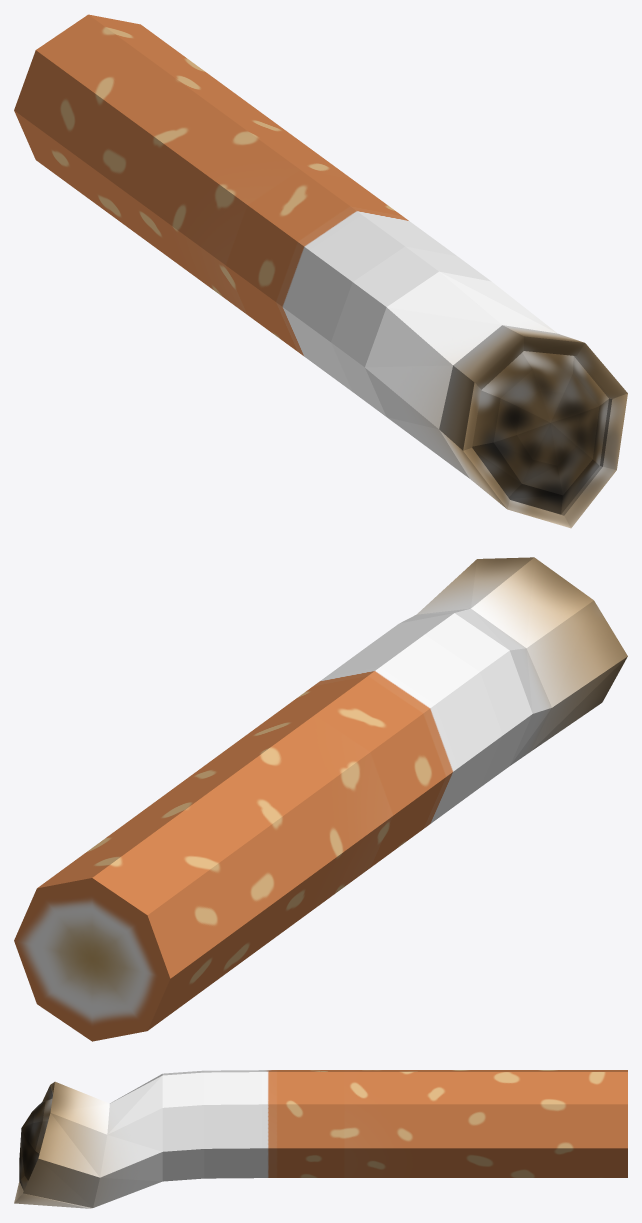
The picture shows the model from 3 angles, top to bottom: view 1: azimuth 30°, elevation 25°; view 2: azimuth 150°, elevation 25°; view 3: azimuth 270°, elevation 25°; orthographic projection. The views are drawn at different scales.
Visible parts, largest first — view 1: Node; view 2: Node; view 3: Node.
Boxes of the visible parts, x1,y1,x2,y2 form: Node: (14,14,627,528); Node: (14,557,627,1041); Node: (14,1070,627,1208).
Size of the model in its own units: 1.03 by 1.02 by 4.55.
Materials: 1 (1 with a texture image).
